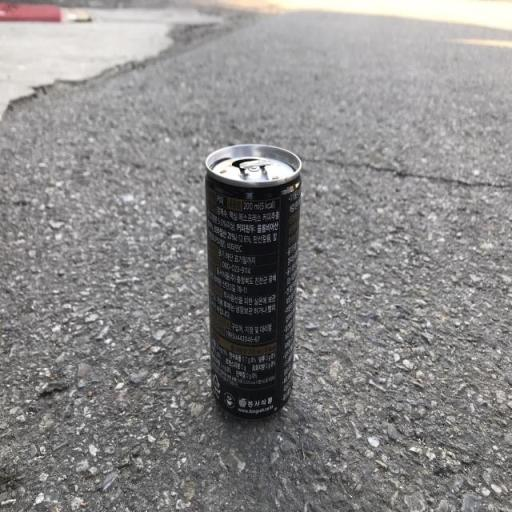metal: (186, 136, 328, 454)
